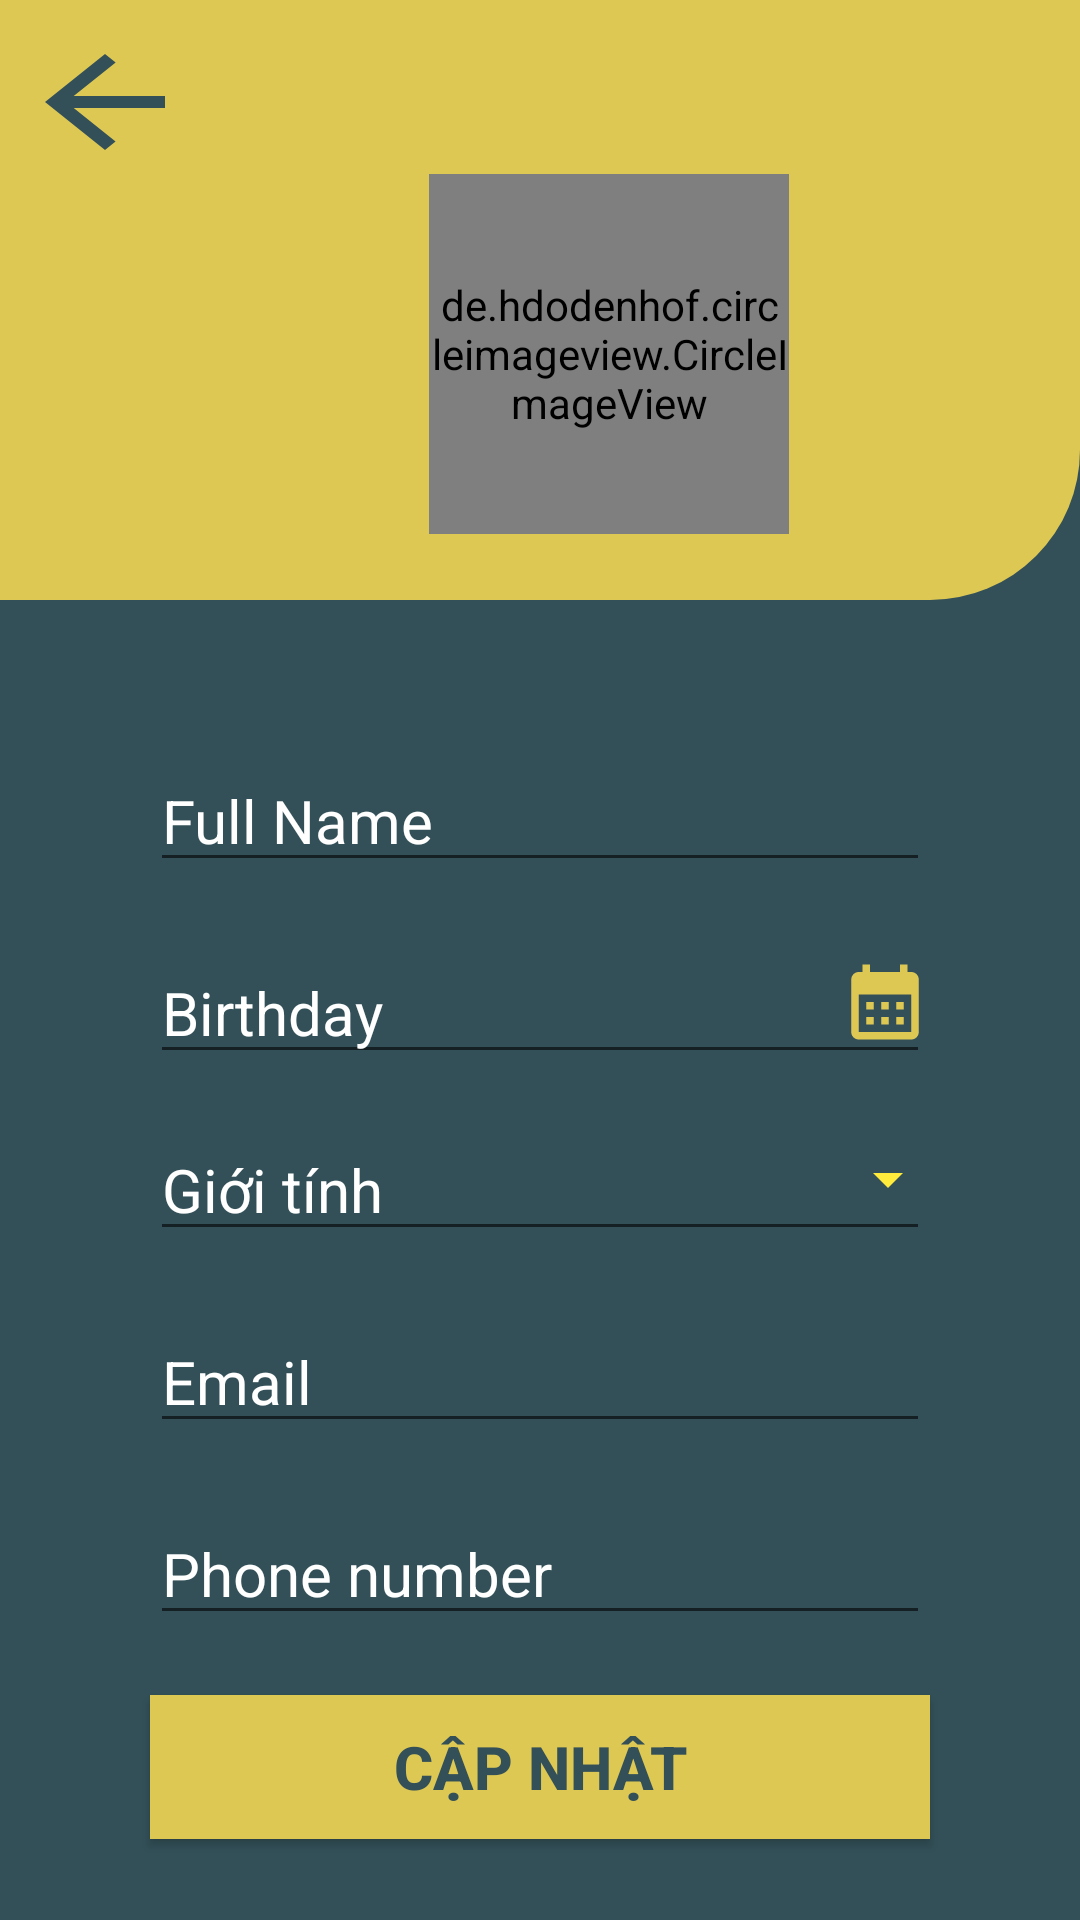

Where to tap for icons on this 1080px x 1920px app screen, as (x=x, y=y):
arrow back: (x=105, y=102)
calendar month: (x=885, y=1002)
